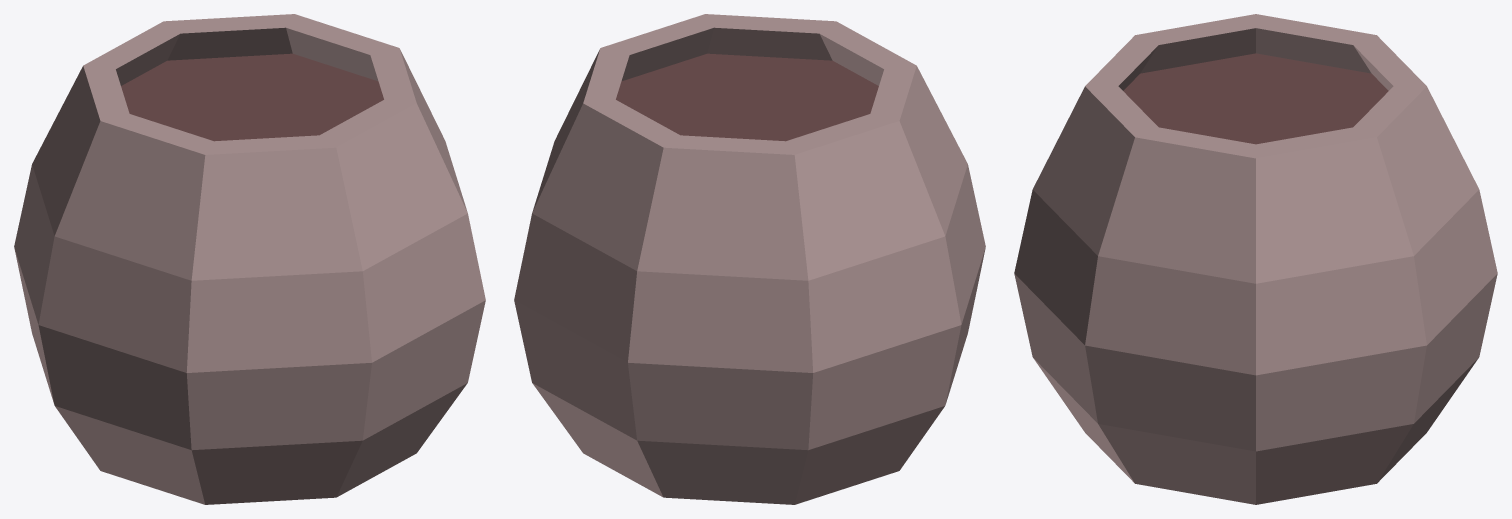
The model's file is Vase4.fbx.
The picture shows the model from 3 angles, left to right: view 1: azimuth 30°, elevation 25°; view 2: azimuth 150°, elevation 25°; view 3: azimuth 270°, elevation 25°; orthographic projection.
Visible parts, largest first — view 1: Vase4; view 2: Vase4; view 3: Vase4.
Boxes of the visible parts, x1=… form: Vase4: x1=14, y1=14, x2=485, y2=504; Vase4: x1=514, y1=14, x2=985, y2=504; Vase4: x1=1014, y1=14, x2=1497, y2=504.
Size of the model in its own units: 2 by 1.58 by 2.
